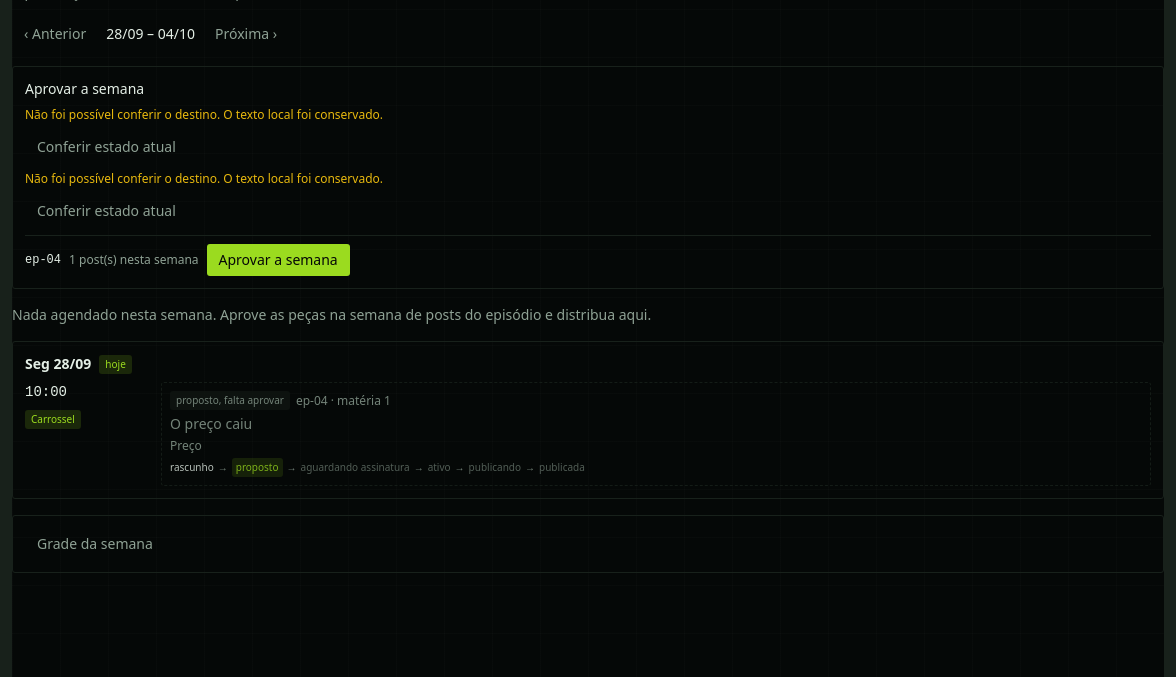
Scenario: MD8: "Aprovar a semana" na aba Semana › monta o lote com o "fica fora" e pede a assinatura em seguida: a tela diz que a titular assina em /atendimento
Click the button "Aprovar a semana" at (278, 260), box 206,244 -> 350,276
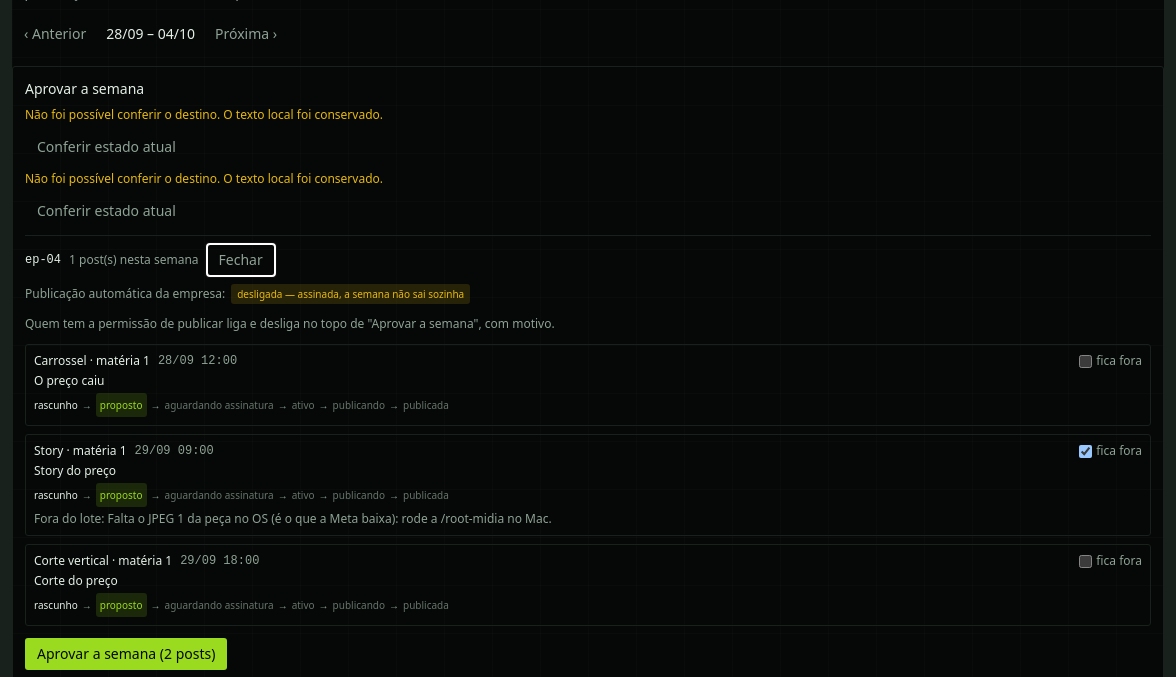
Click the checkbox labelled "fica fora" in the row of "29/09 18:00" at (1086, 561), box 1079,554 -> 1092,568
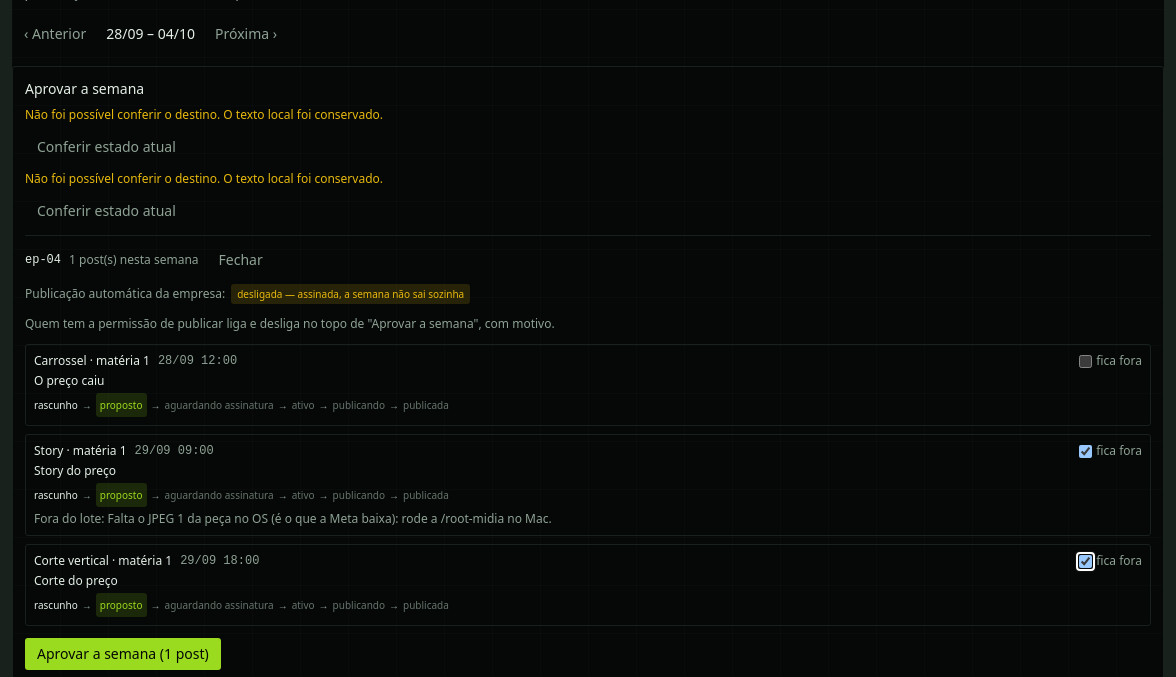
Click the button "Aprovar a semana (1 post)" at (123, 654), box 25,638 -> 221,670
(page scrolled)
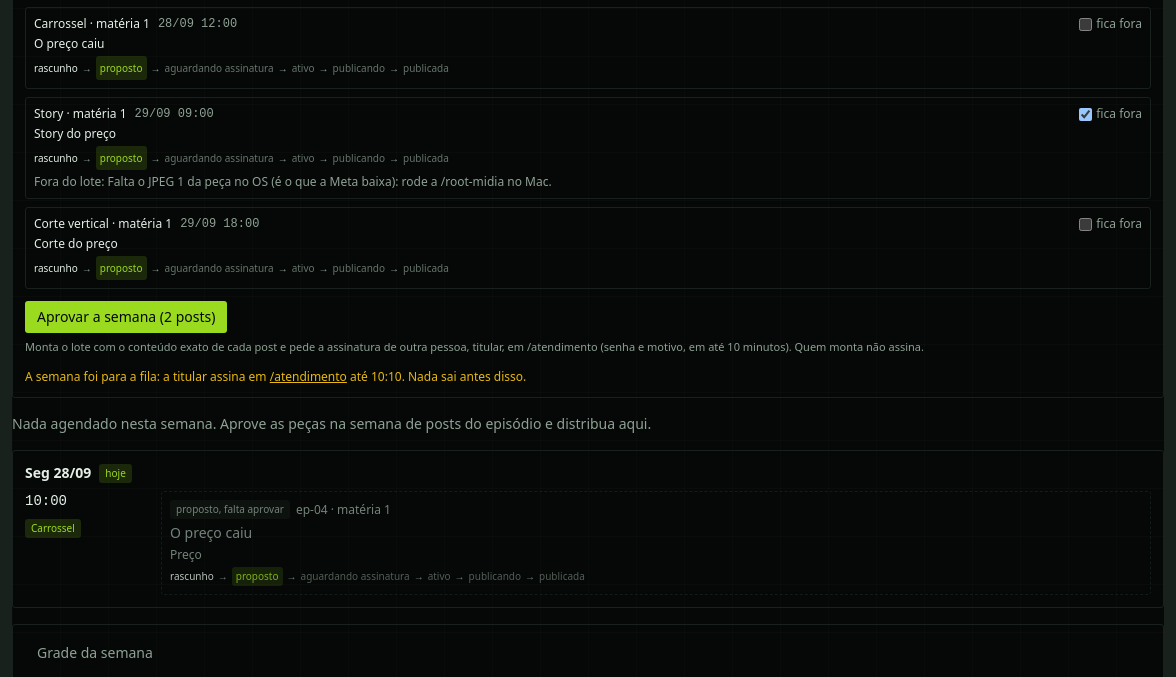
Expected: the message shows "a titular assina em /atendimento", 25,368 -> 526,385
